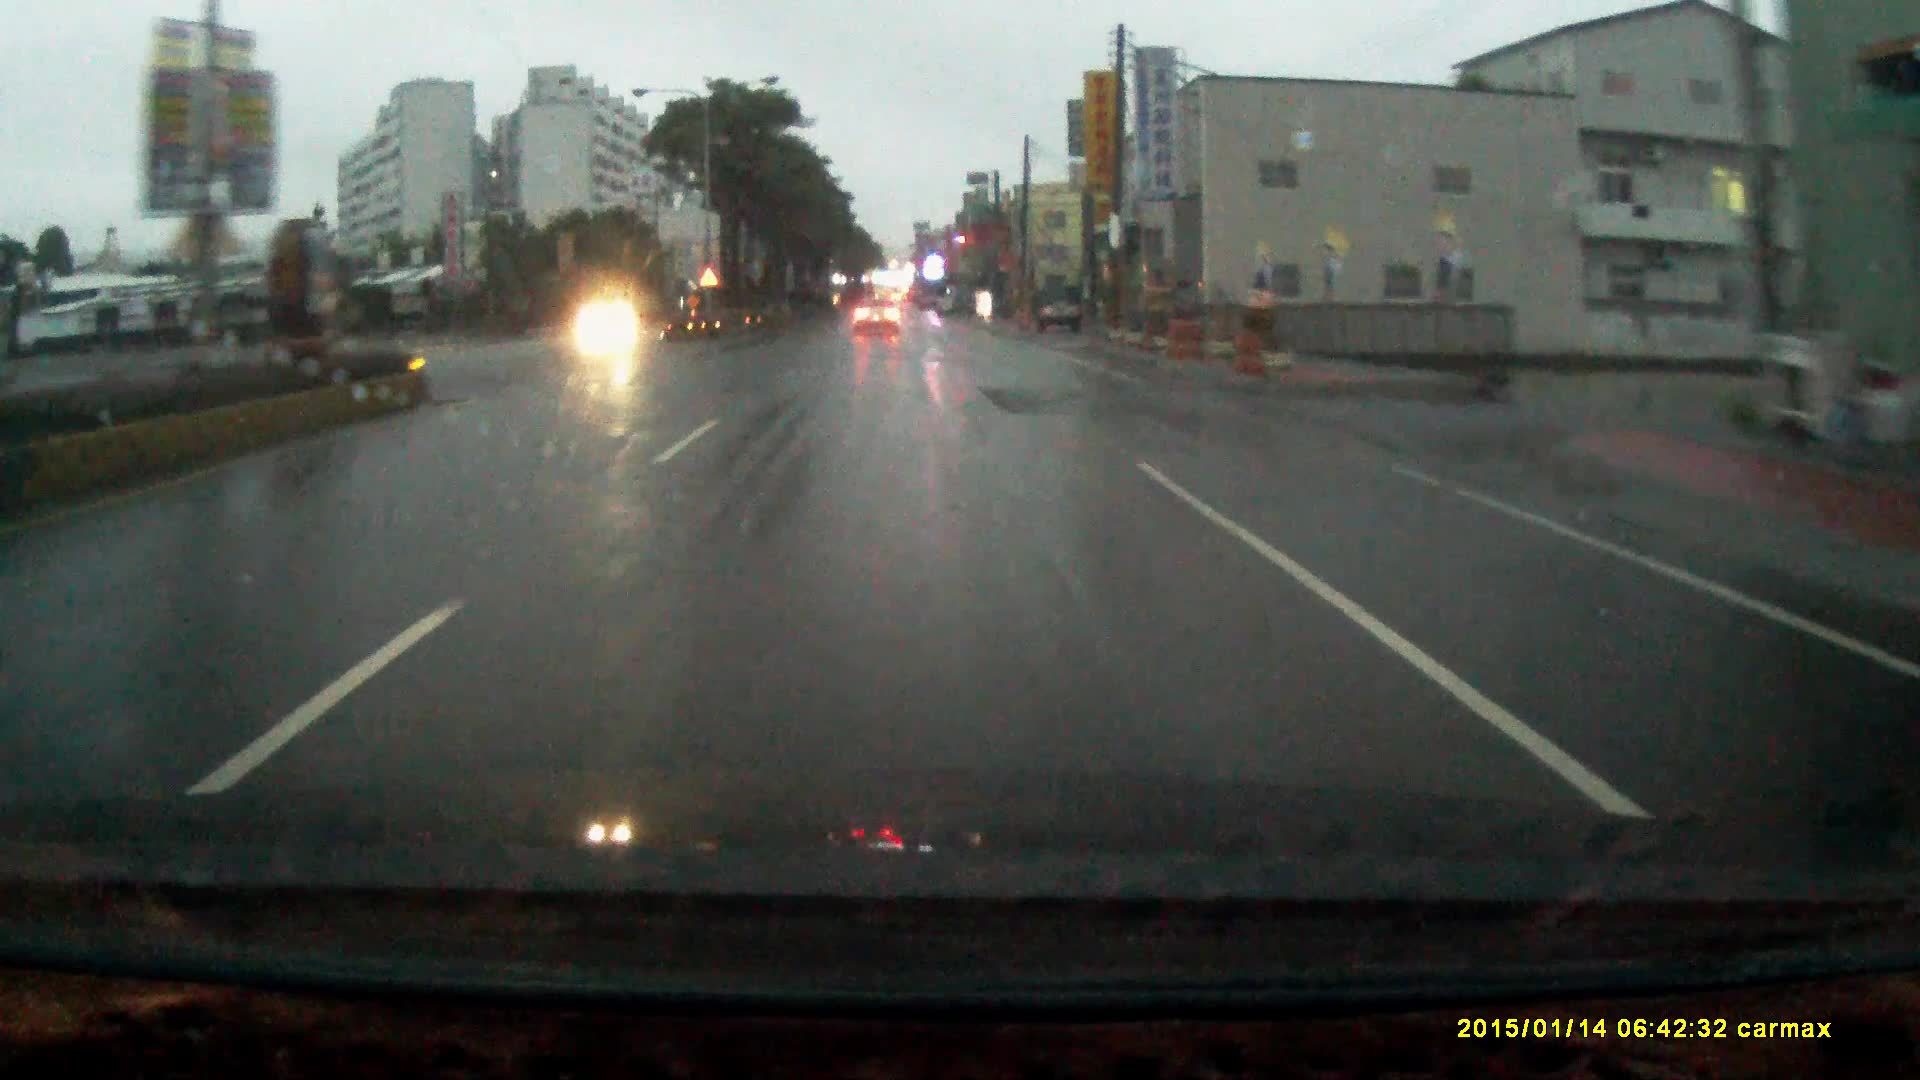vehicle: (1036, 287, 1084, 338), (848, 301, 899, 338)
